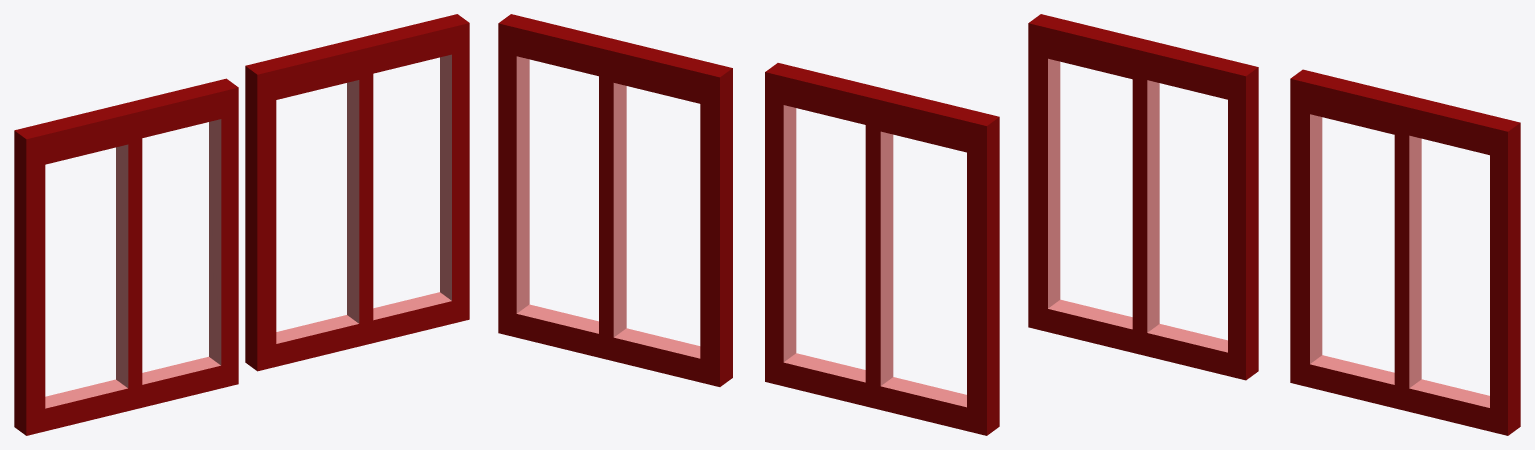
File: ibangsagot.fbx
The picture shows the model from 3 angles, left to right: view 1: azimuth 30°, elevation 25°; view 2: azimuth 150°, elevation 25°; view 3: azimuth 330°, elevation 25°; orthographic projection. The views are drawn at different scales.
Parts seen in each view (by area): view 1: Model; view 2: Model; view 3: Model.
Part boxes in pixels (x1,y1,x2,y2): Model: (14,14,469,435); Model: (498,14,999,435); Model: (1028,14,1520,435).
Bounding box in the file's own units: 5.86 × 3.69 × 0.5462.
